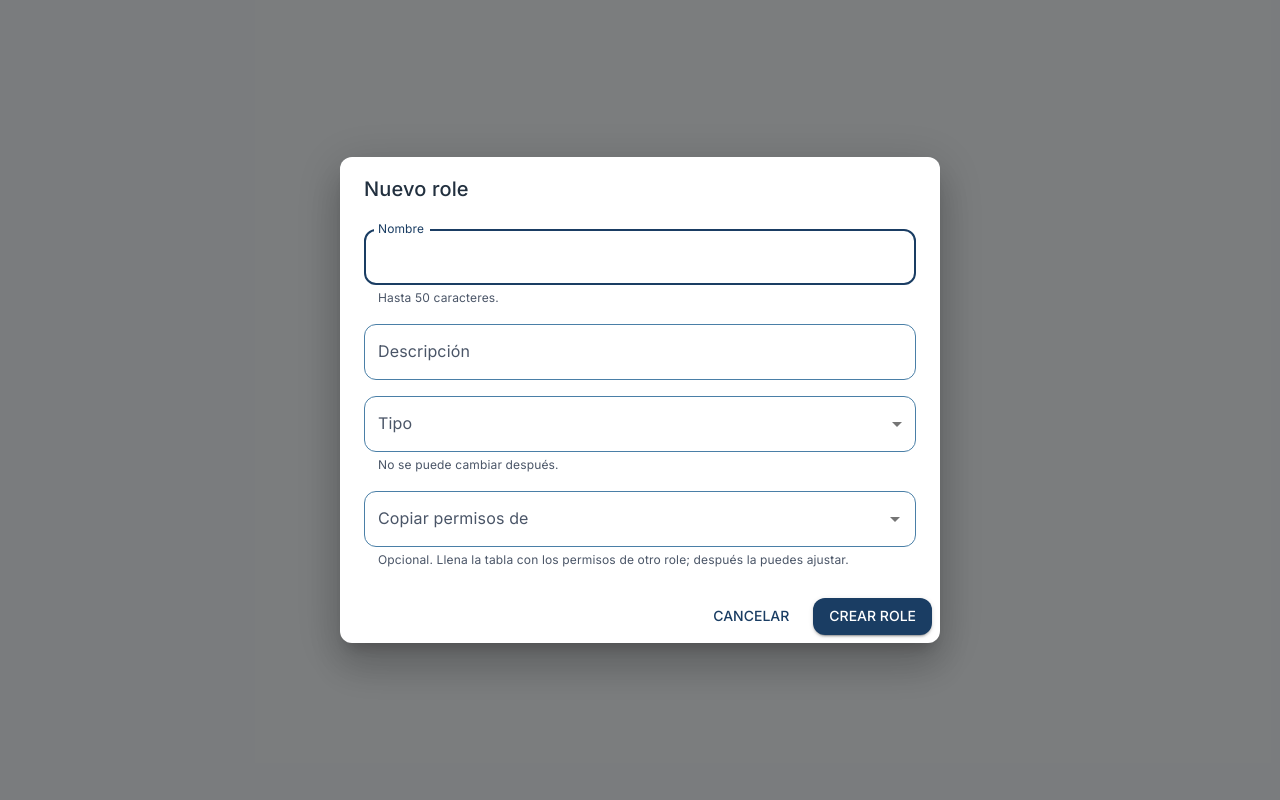
RoleFormDialog › keeps the dialog open and the typed values when the name is already taken
The width and height of the screenshot is (1280, 800).
In the field labelled "Nombre": (640, 257) [364,229,916,285], type "Administrator"
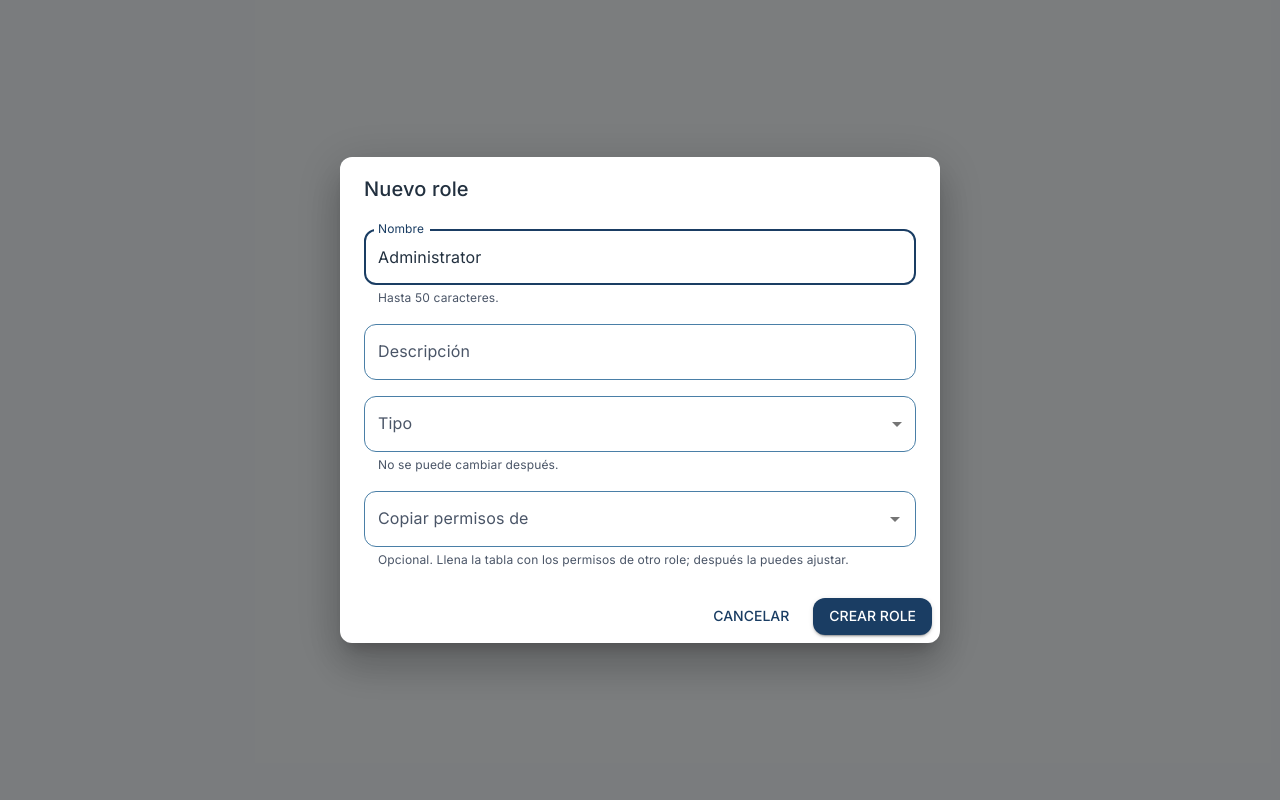
Click the dropdown named "Tipo": (640, 424) [364,396,916,452]
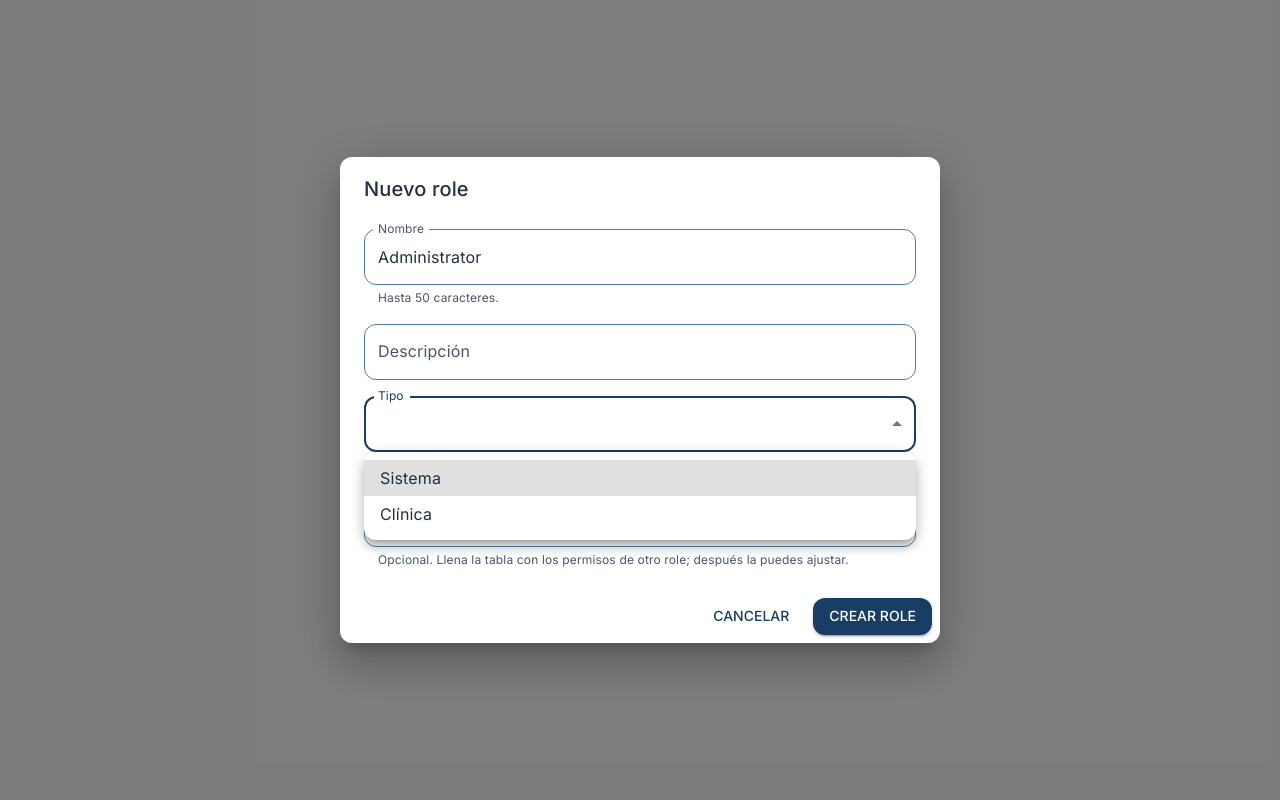
Click the option "Sistema": (411, 478) [364,460,916,496]
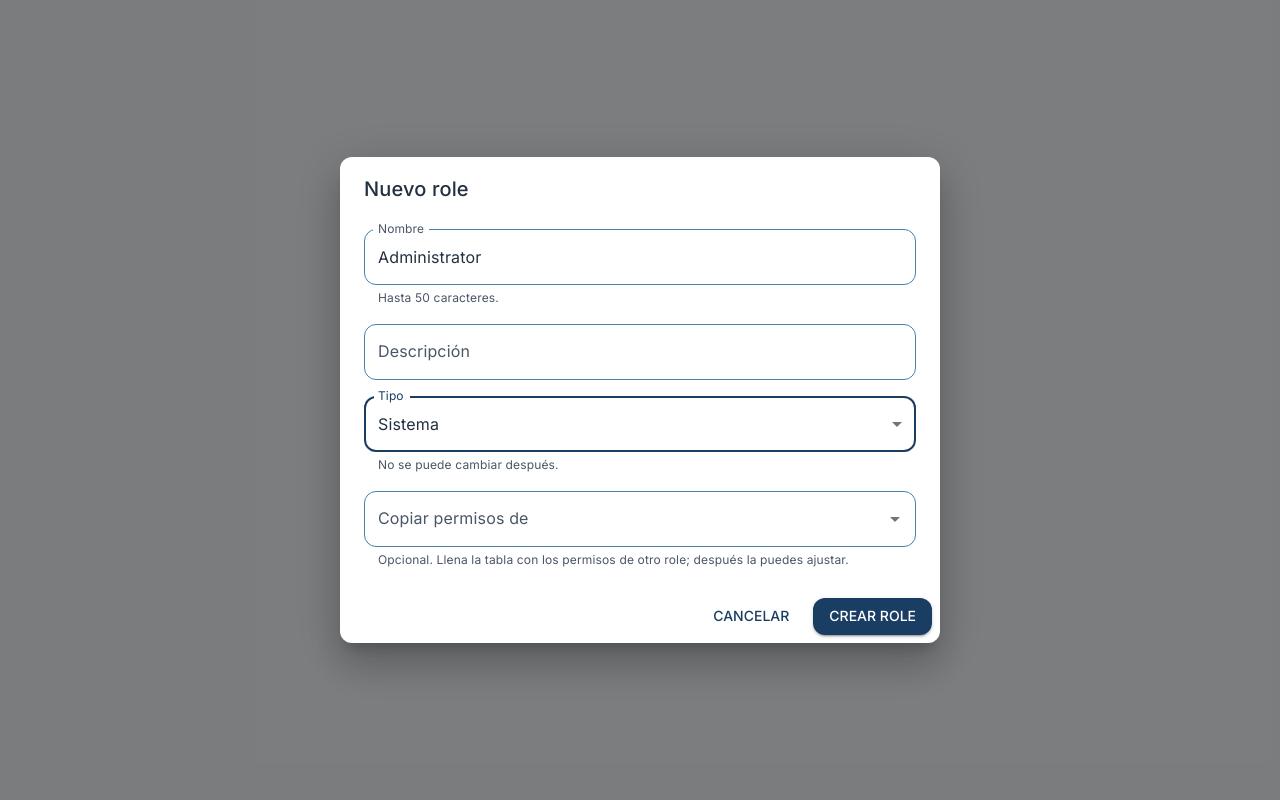
Click the button "Crear role": (873, 616) [813,598,932,635]
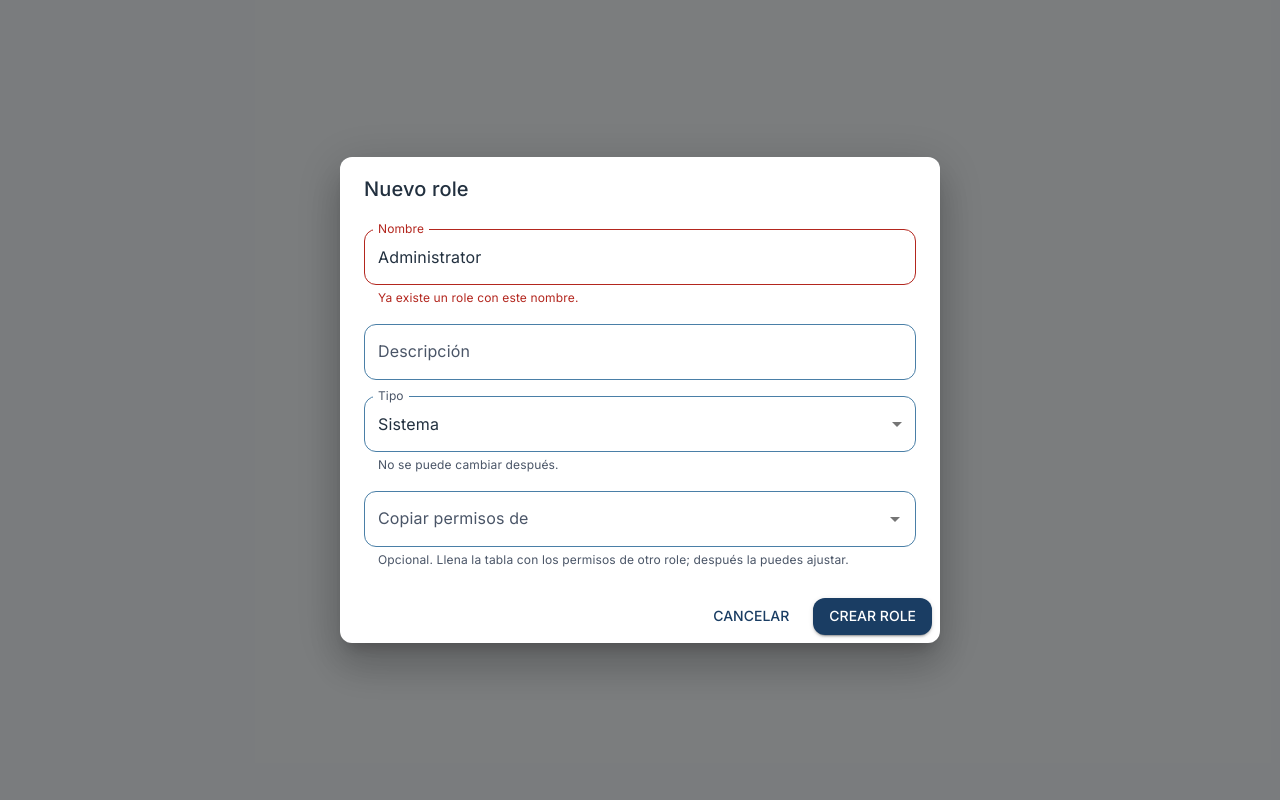
Expected: the text "Ya existe un role con este nombre." is shown, [378,290,578,305]
